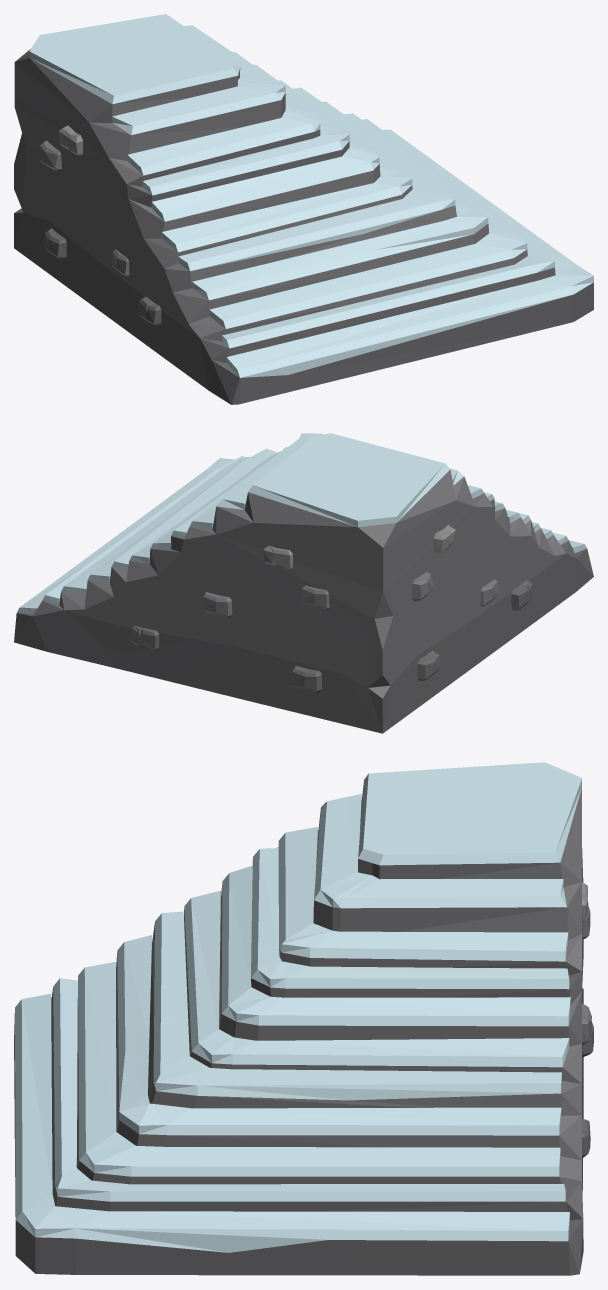
Rendered from SM_Bld_StairsLarge_Corner_02_Snow.gltf.
3 views of the same model, one above another, from view 1: azimuth 30°, elevation 25°; view 2: azimuth 150°, elevation 25°; view 3: azimuth 270°, elevation 25° (orthographic). The views are drawn at different scales.
Parts seen in each view (by area): view 1: SM_Bld_StairsLarge_Corner_02_Snow; view 2: SM_Bld_StairsLarge_Corner_02_Snow; view 3: SM_Bld_StairsLarge_Corner_02_Snow.
Boxes of the visible parts, box(x1,y1,x2,y2) form: SM_Bld_StairsLarge_Corner_02_Snow: box(14, 14, 593, 404); SM_Bld_StairsLarge_Corner_02_Snow: box(14, 433, 593, 733); SM_Bld_StairsLarge_Corner_02_Snow: box(14, 762, 593, 1275).
Bounding box in the file's own units: 3.94 × 2.04 × 3.93.
1 material, 1 textured.
